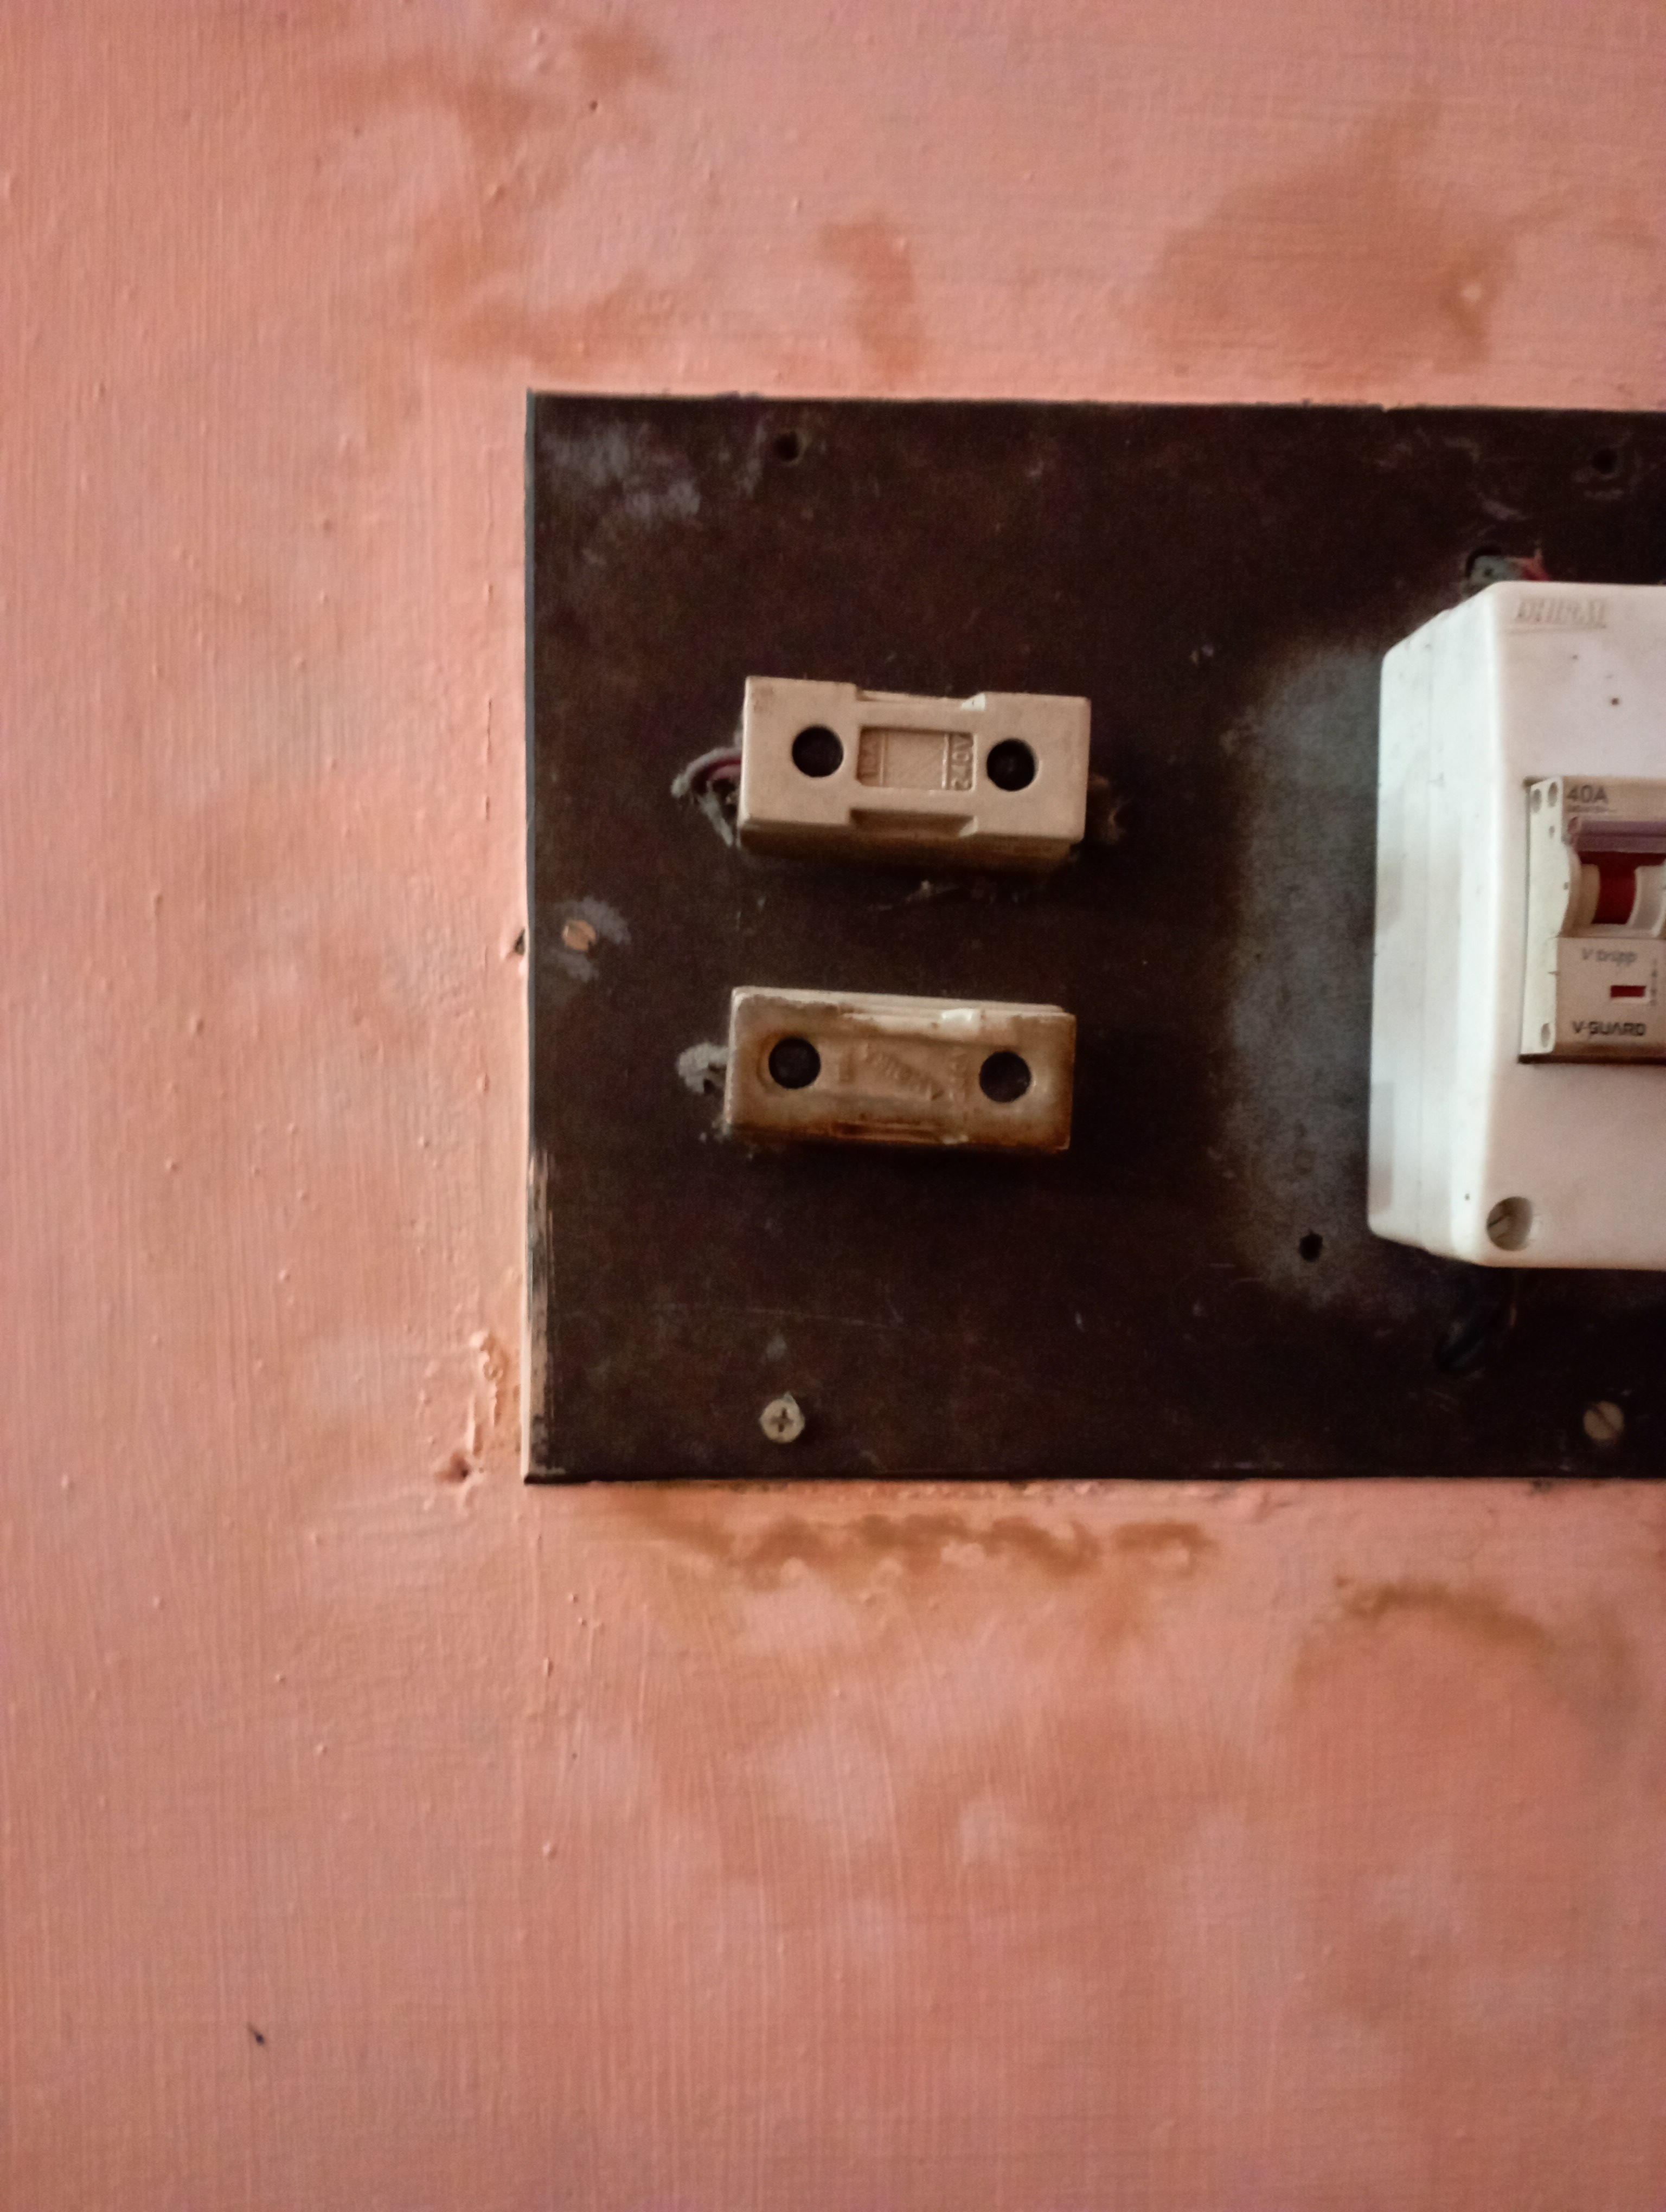ciruit_breaker: (1358, 568, 1666, 1278)
fuse: (688, 656, 1123, 904), (705, 965, 1129, 1159)
